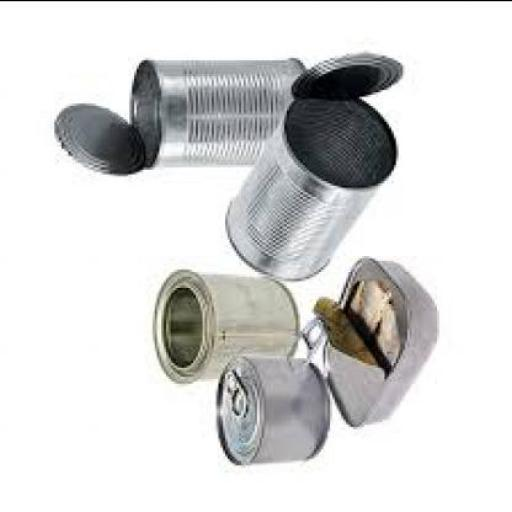metal: (226, 96, 398, 278), (298, 256, 437, 426), (128, 55, 314, 163), (150, 271, 300, 380), (212, 355, 325, 460), (52, 98, 146, 173), (292, 52, 402, 98)
